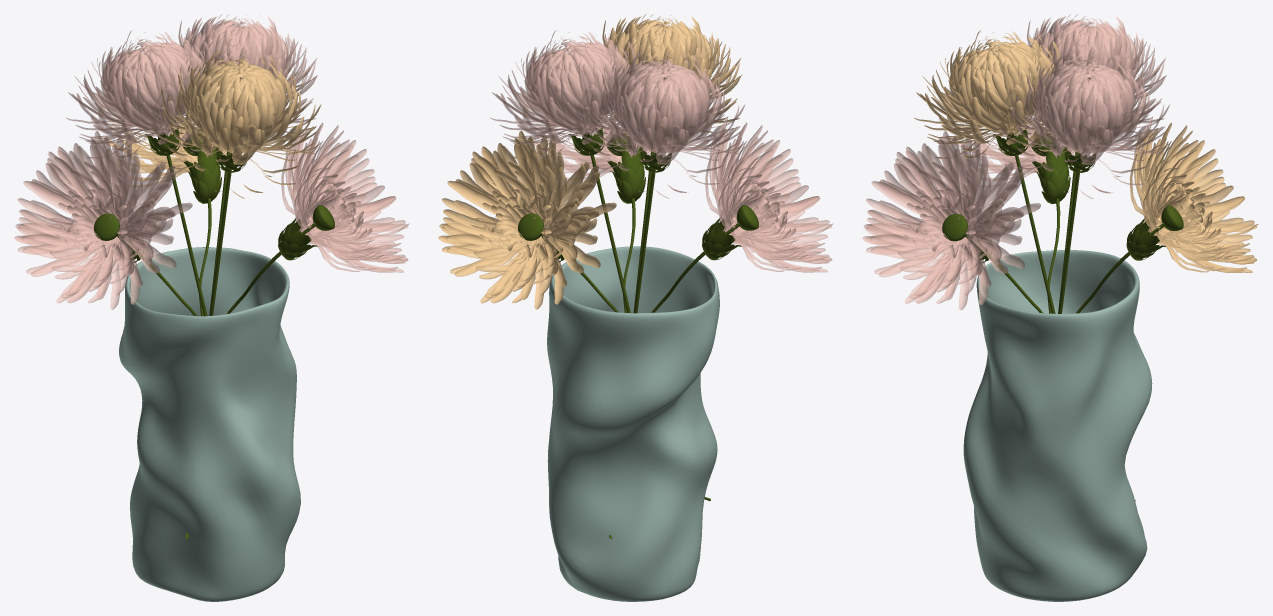
The model's file is bouquet_1736246365782.glb.
3 views of the same model, side by side, from view 1: azimuth 30°, elevation 25°; view 2: azimuth 150°, elevation 25°; view 3: azimuth 270°, elevation 25° (orthographic).
Size of the model in its own units: 1.78 by 2.76 by 1.84.
